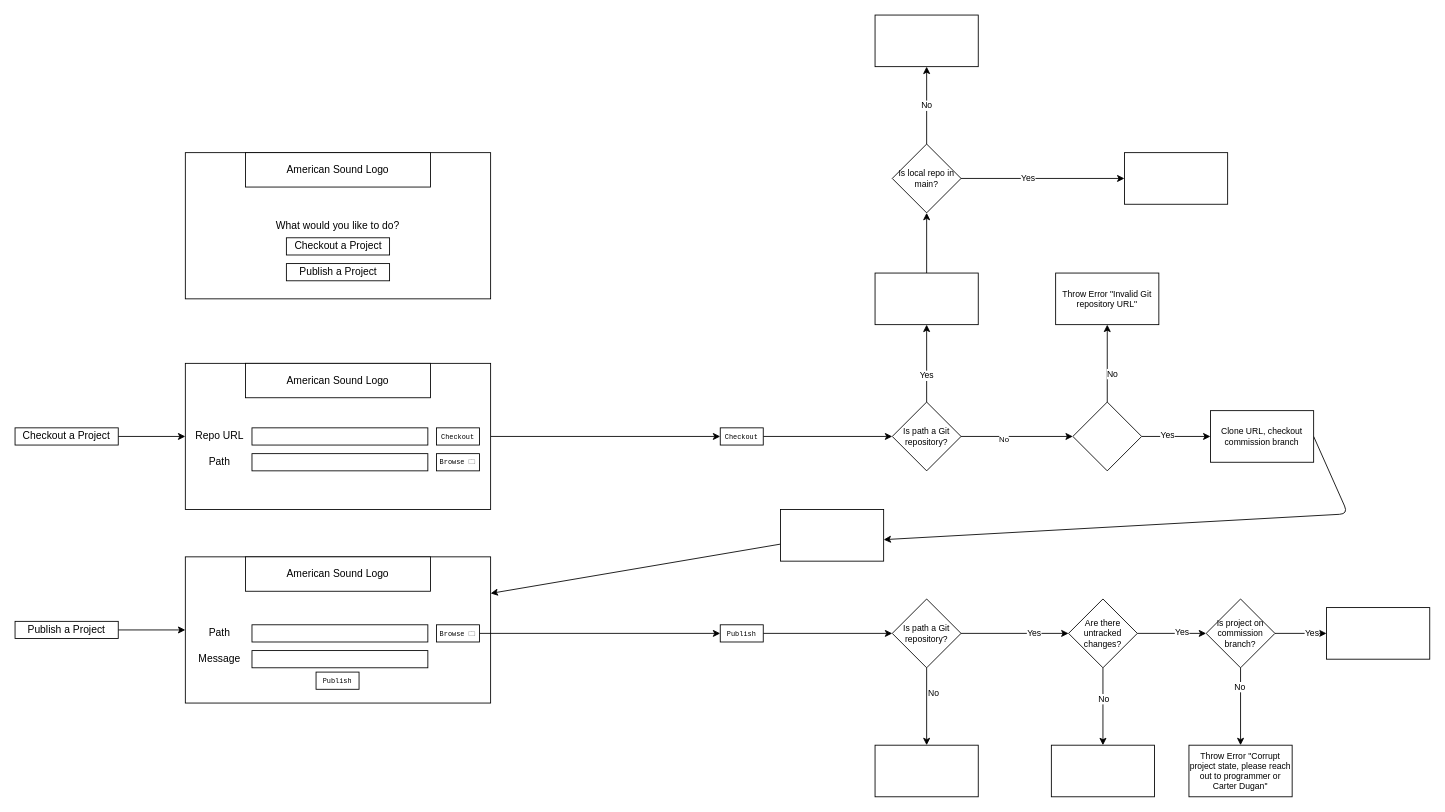
The diagram is 1445 pixels wide and 812 high, and some of its shapes have lost their labels. Here are the shapes that lost their labels. From the top down, the centre of each, then its label:
pixel 926 40: Throw Error "Unpublished changes in this local repository!"
pixel 1176 178: pull changes, checkout commission branch
pixel 926 298: Gray-out URL
pixel 1107 436: Is URL a Git repository?
pixel 832 535: Auto-fill path and change screens
pixel 1378 633: Add, commit with message from message field, push, checkout main branch
pixel 926 770: Throw Error "Path is not a repository"
pixel 1102 770: No changes to publish
